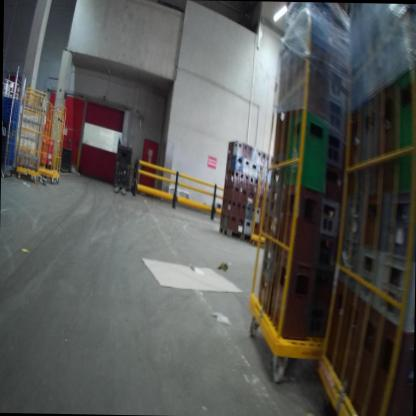pallet: (215, 221, 258, 245)
pallet_truck: (111, 130, 132, 196)
